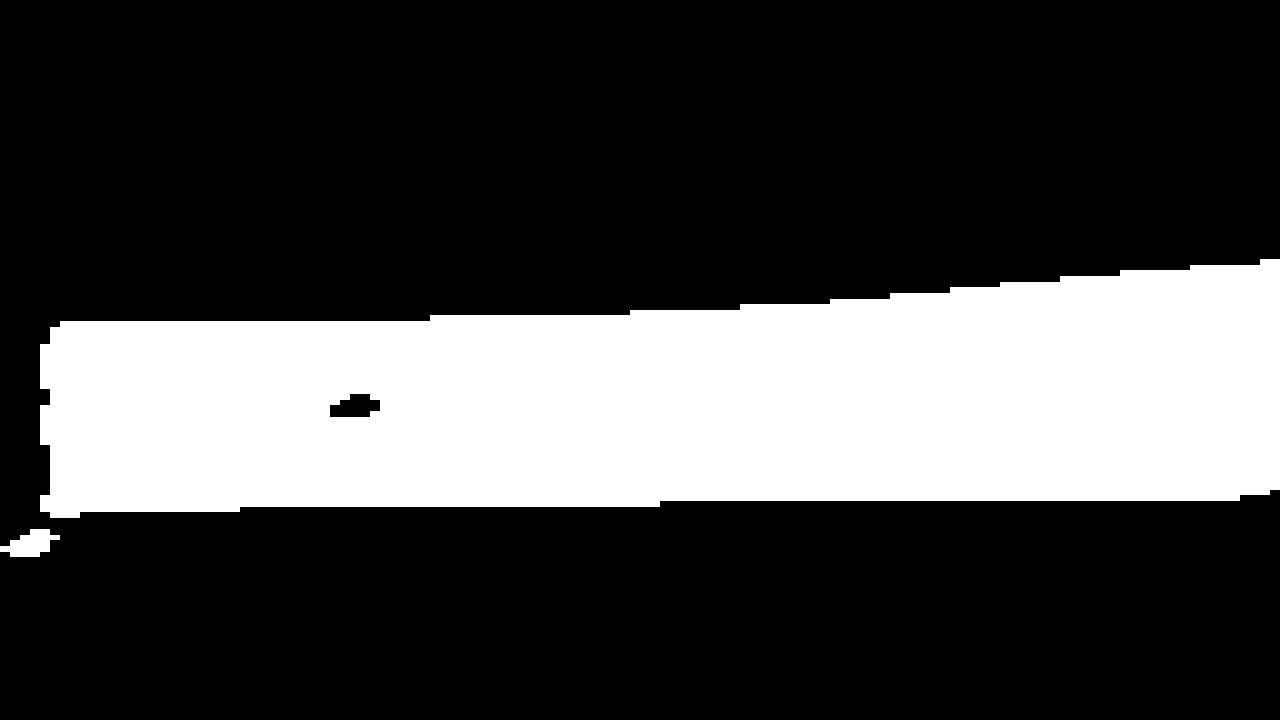Turbine: (37, 259, 1275, 522)
